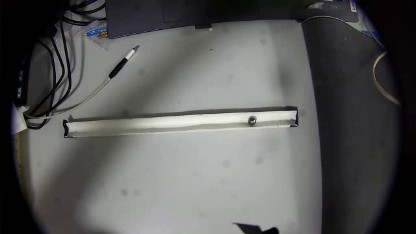gangzhu: (245, 116, 254, 124)
